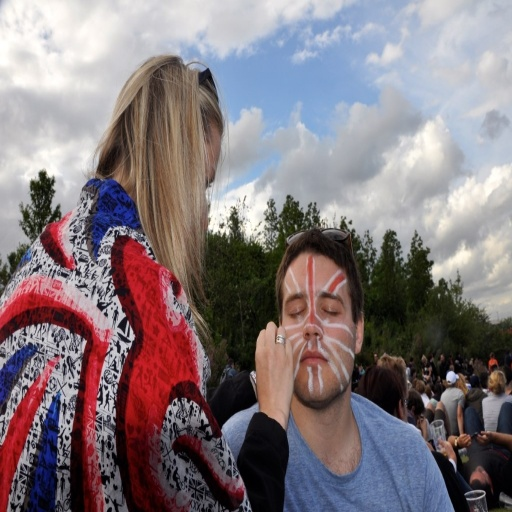hand: (255, 335, 295, 399), (435, 437, 455, 455), (475, 429, 492, 448), (456, 432, 472, 450)
